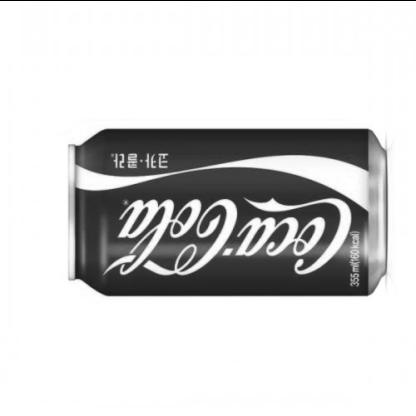alumunium_can: (60, 115, 398, 301)
